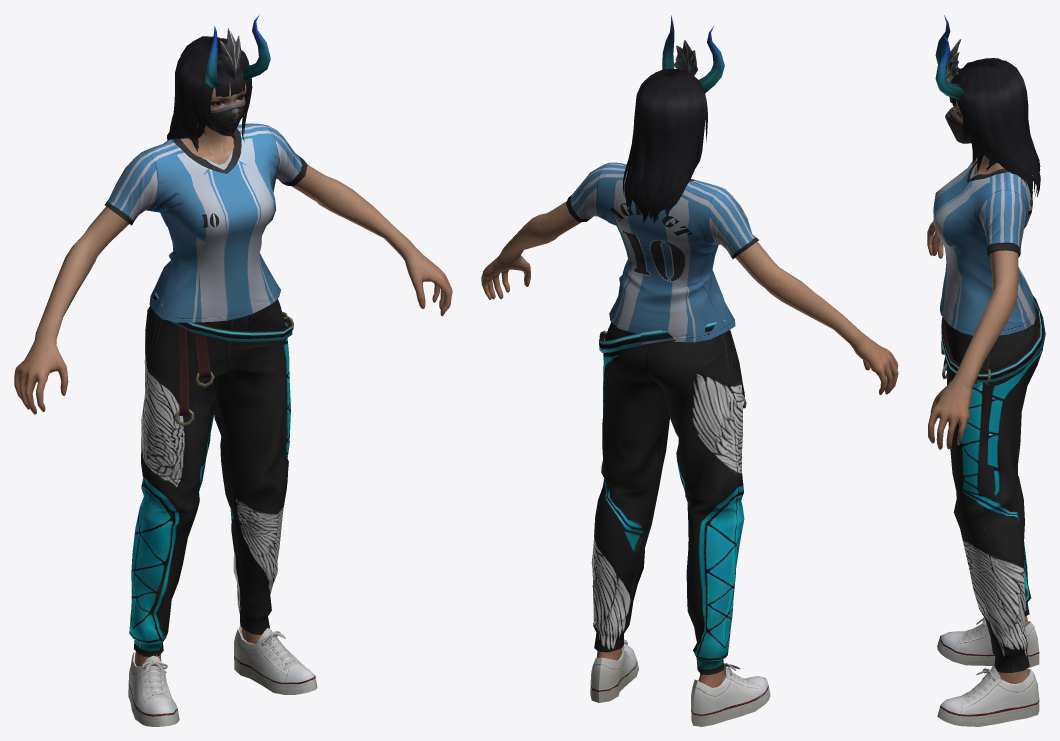
File: le christ wife.glb
3 views of the same model, side by side, from view 1: azimuth 30°, elevation 25°; view 2: azimuth 150°, elevation 25°; view 3: azimuth 270°, elevation 25° (orthographic). The views are drawn at different scales.
Parts seen in each view (by area): view 1: le christ wife; view 2: le christ wife; view 3: le christ wife.
Part boxes in pixels (x1,y1,x2,y2): le christ wife: (14,14,452,726); le christ wife: (481,15,898,726); le christ wife: (927,15,1045,726).
Size of the model in its own units: 0.6023 by 0.9351 by 0.1512.
8 materials, 8 textured.
